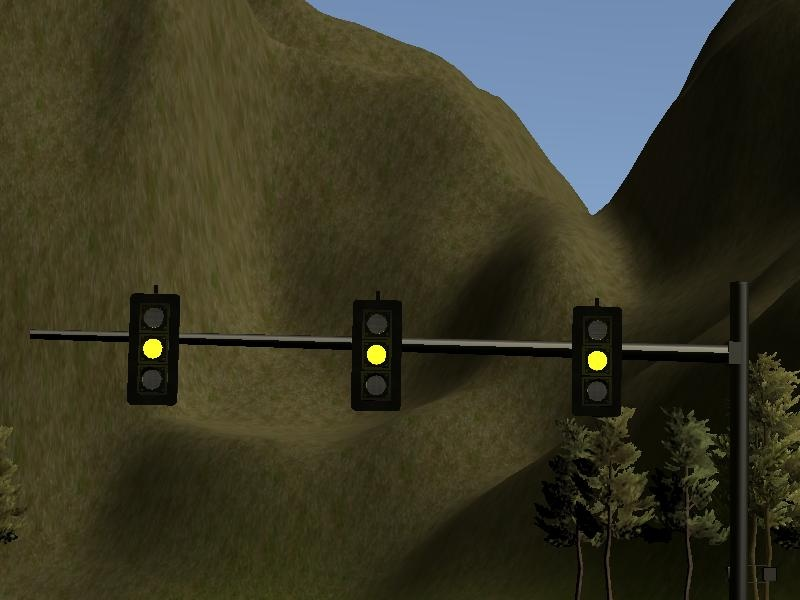YELLOW: (124, 290, 180, 405), (569, 305, 623, 415), (348, 298, 402, 408)
